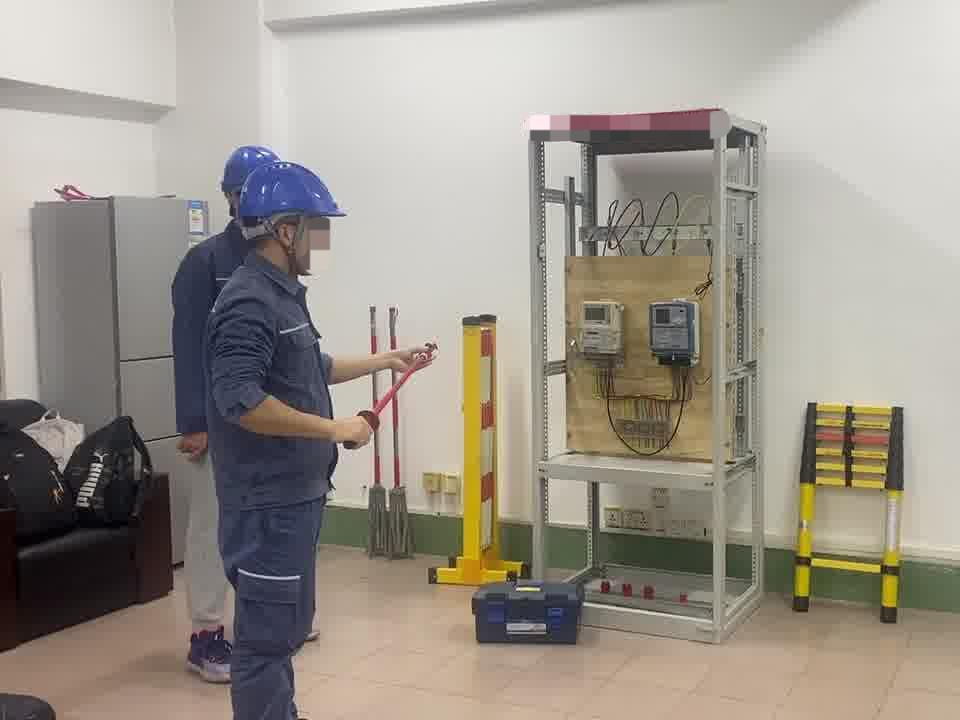halt: (235, 149, 349, 281), (221, 145, 287, 217)
inear: (267, 216, 311, 270)
